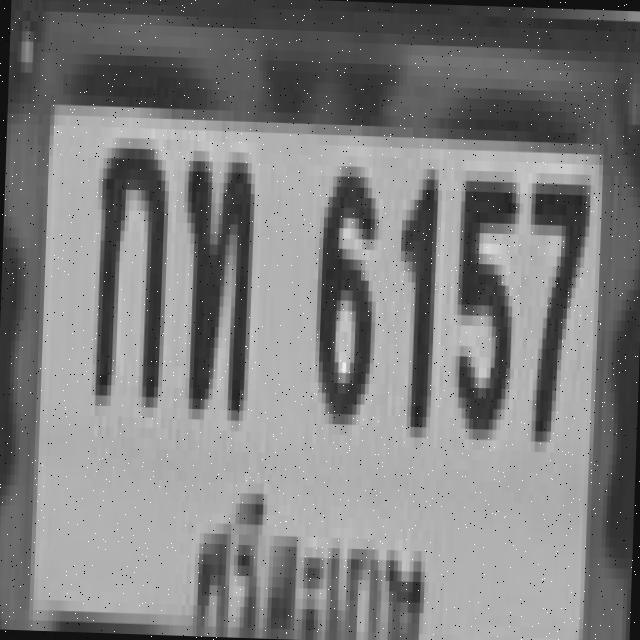1: (390, 162, 434, 422)
10GorGai: (91, 137, 166, 397)
32ThorThaHan: (176, 150, 252, 410)
5: (450, 170, 512, 430)
6: (309, 154, 372, 414)
7: (520, 172, 586, 432)
SamutSongkhram: (184, 460, 436, 640)
